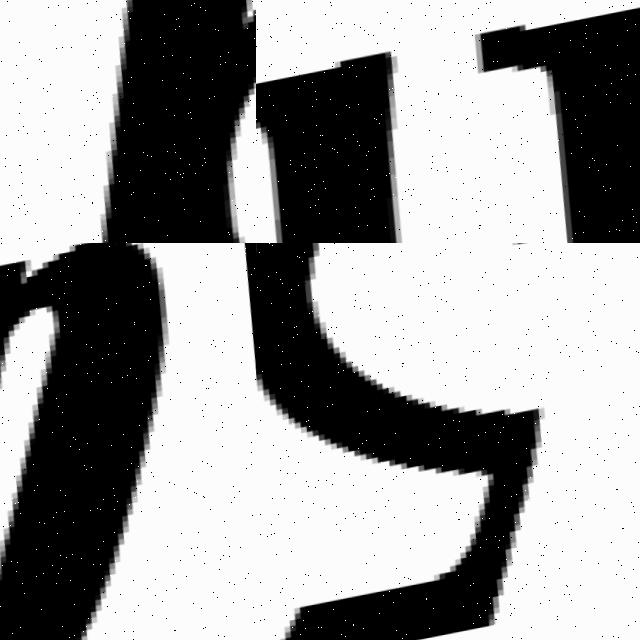5: (256, 243, 640, 640)
D: (0, 243, 240, 640)
N: (256, 0, 640, 243)
Q: (12, 0, 256, 243)
